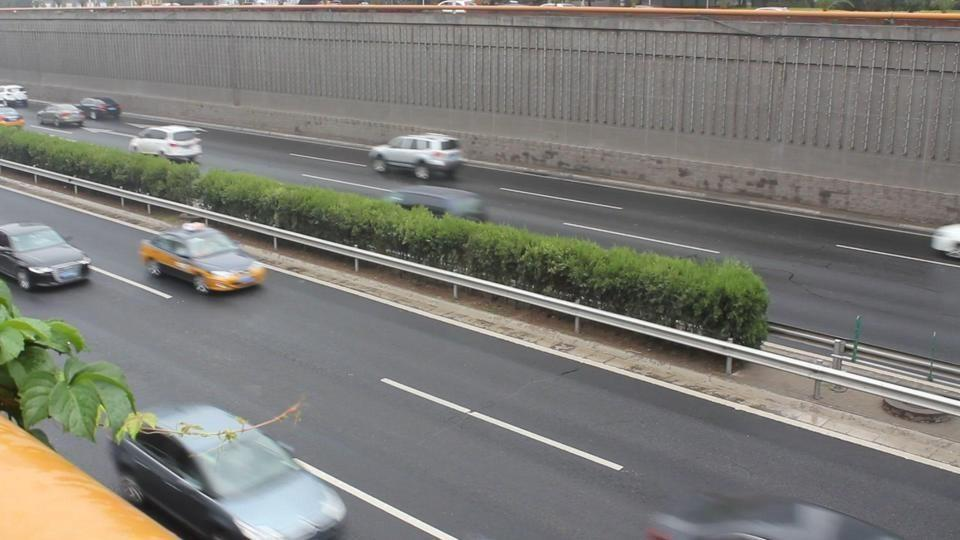car: (108, 402, 352, 538), (138, 223, 268, 295), (0, 221, 93, 290), (367, 134, 465, 181), (386, 184, 488, 222), (127, 125, 205, 162), (36, 103, 85, 128), (75, 96, 123, 121), (929, 222, 960, 257), (0, 84, 28, 108), (0, 107, 24, 126)
